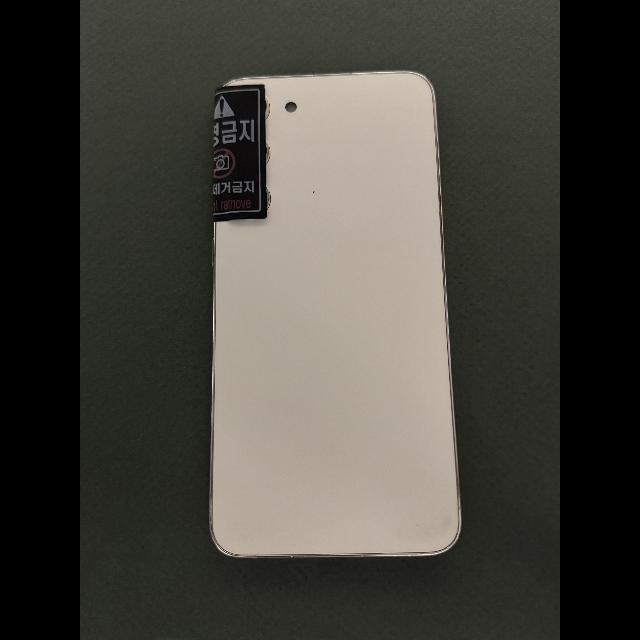phone: (209, 71, 460, 558)
sticker: (212, 84, 267, 222)
